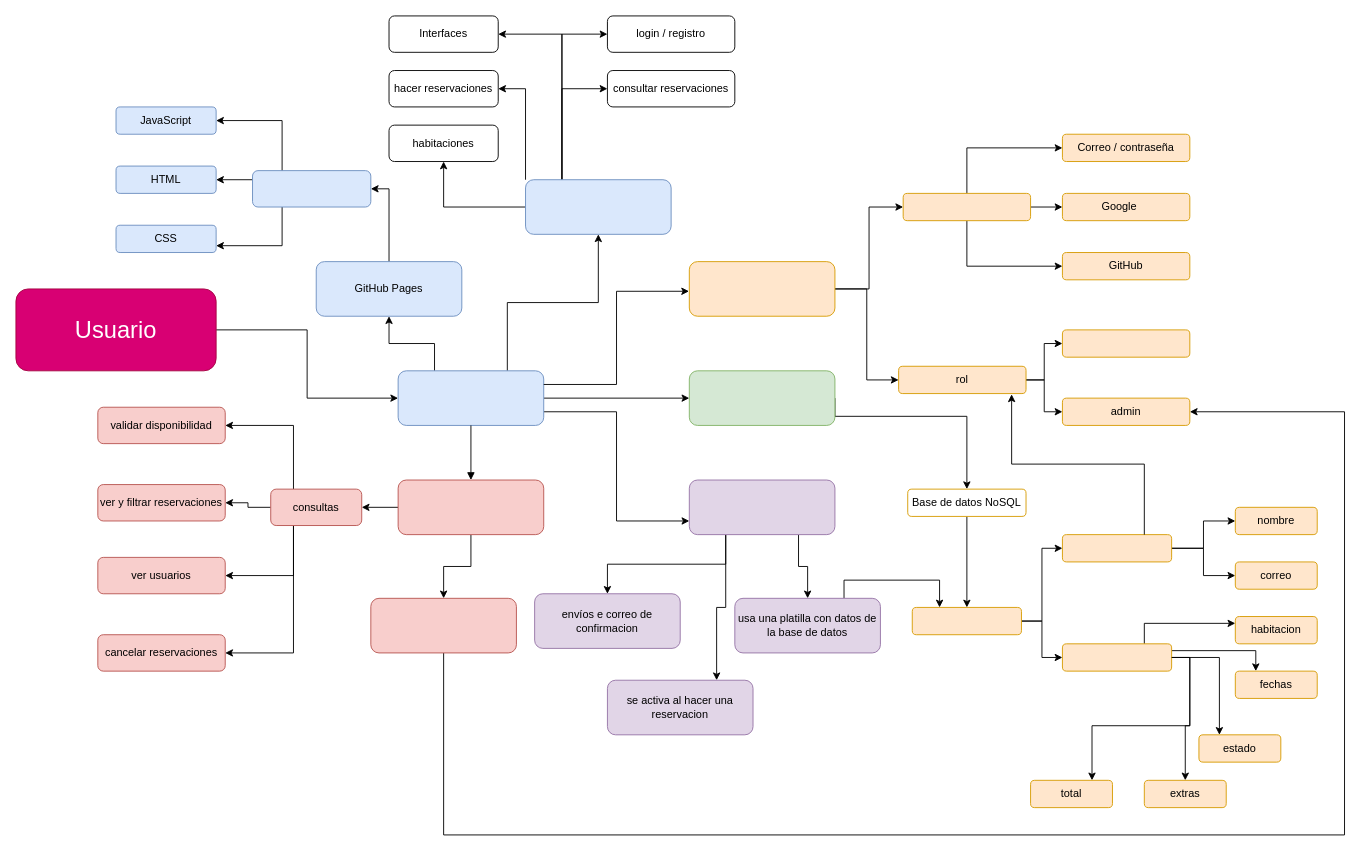
Image size: 1368x858. Some labels were removed from this diagram. The shapes that lost their labels are listed below. From the top down, each one's centre as x and y in pixels, then its label:
At (x=311, y=188): "Sitio completo".
At (x=598, y=206): "Archivos Frontend index.html, js y CSS".
At (x=966, y=206): "gestion de autenticacio".
At (x=761, y=288): "Firebase Auth (login/register)".
At (x=1126, y=343): "cliente".
At (x=470, y=397): "Sitio Web (GitHub Pages)".
At (x=761, y=397): "Firestore DB (reservas, usuarios)".
At (x=470, y=507): "Admin Dashboard (vista protegida)".
At (x=761, y=507): "EmailJS (confirmación por correo)".
At (x=1117, y=548): "usuarios".
At (x=443, y=625): "vista protegida para el administrador".
At (x=966, y=621): "colecciones".
At (x=1117, y=657): "reservaciones".
